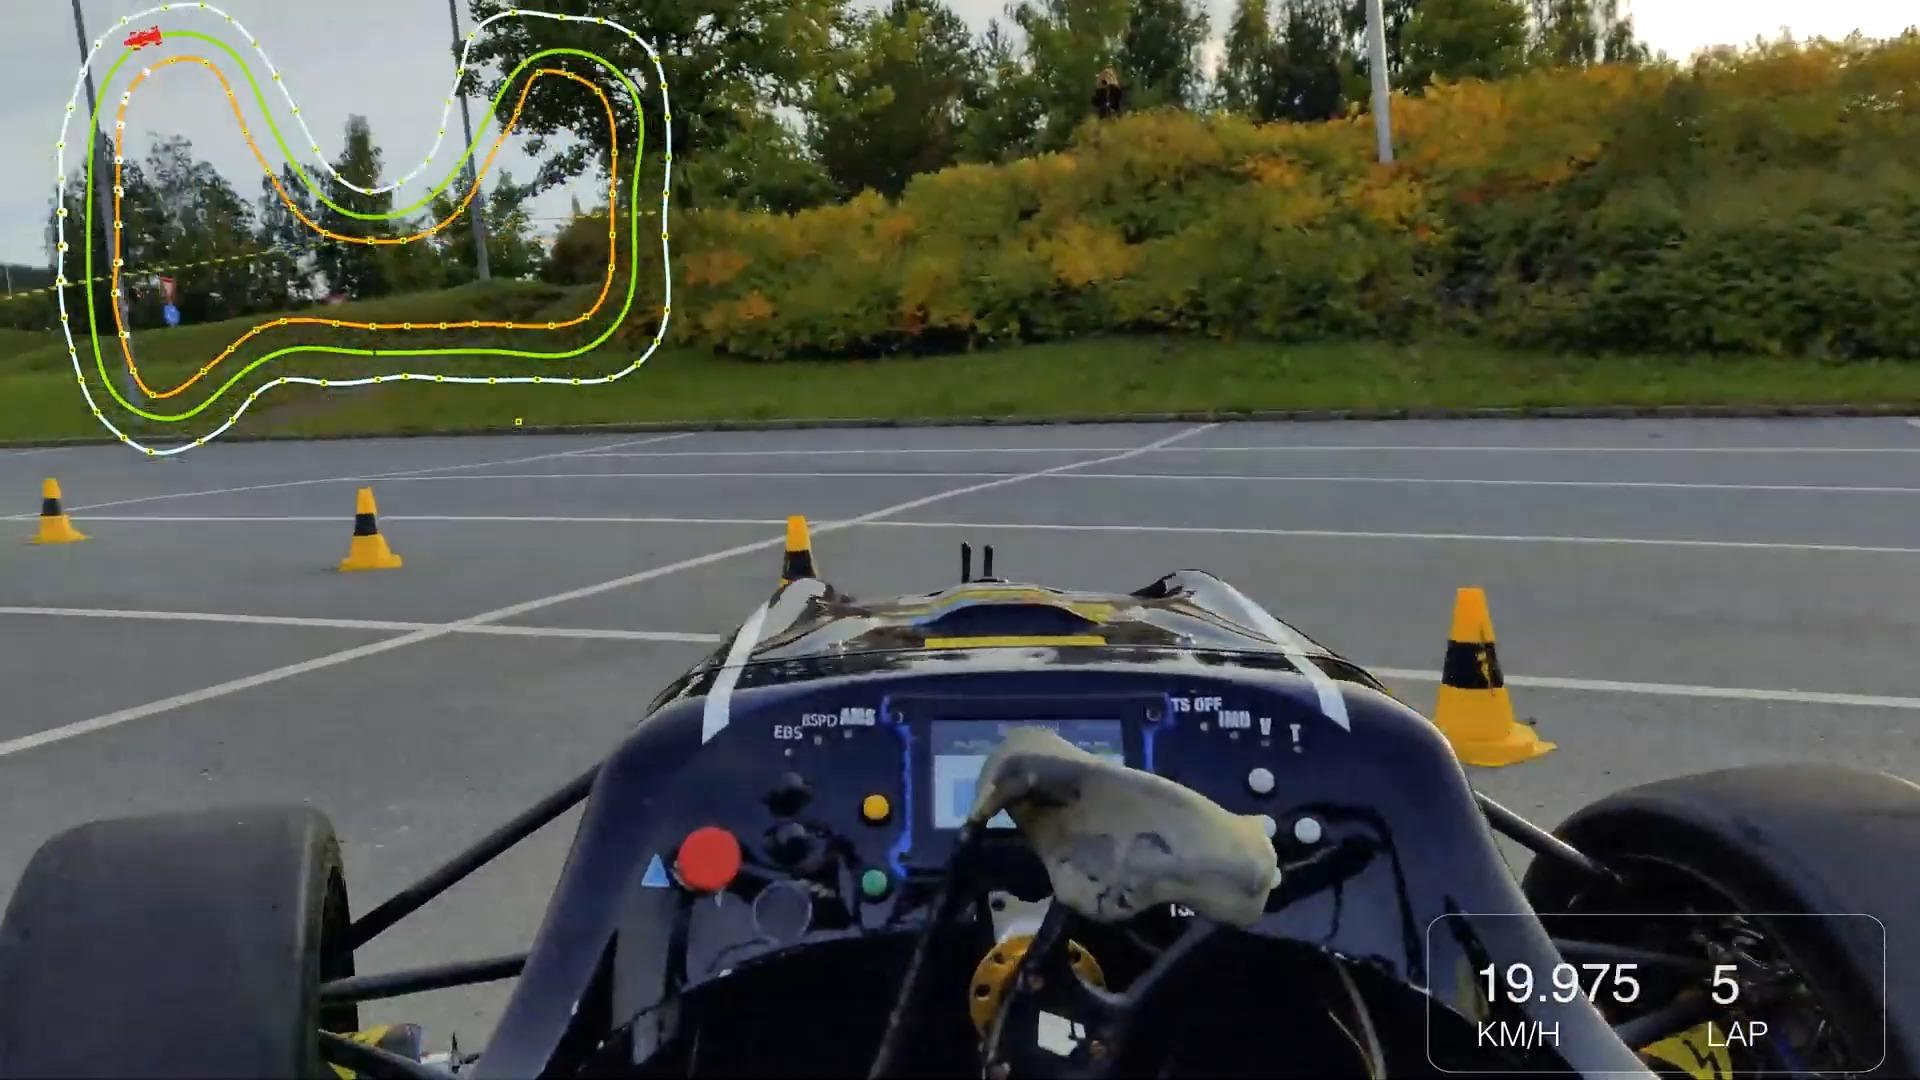yellow_cone: (1408, 583, 1565, 777), (748, 508, 865, 663), (324, 480, 414, 580), (26, 468, 92, 554)
